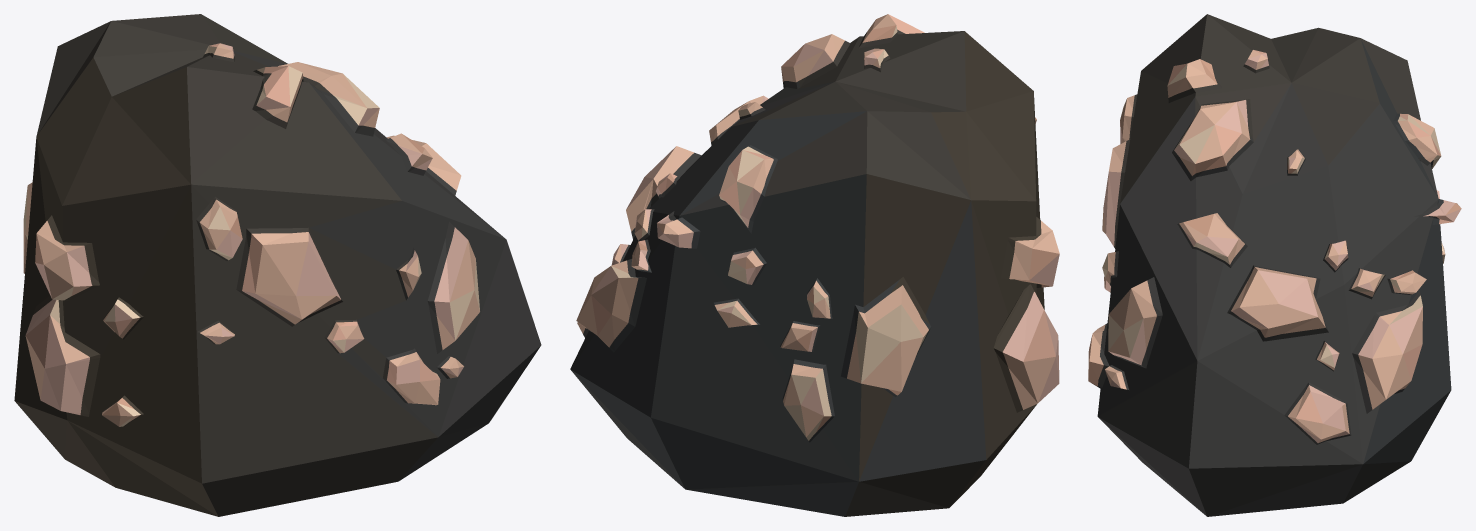
Rendered from Iron Ore Rock.glb.
The picture shows the model from 3 angles, left to right: view 1: azimuth 30°, elevation 25°; view 2: azimuth 150°, elevation 25°; view 3: azimuth 270°, elevation 25°; orthographic projection. The views are drawn at different scales.
Visible parts, largest first — view 1: Iron Ore Rock.Static; view 2: Iron Ore Rock.Static; view 3: Iron Ore Rock.Static.
Boxes of the visible parts, x1,y1,x2,y2 form: Iron Ore Rock.Static: (14,14,541,516); Iron Ore Rock.Static: (570,14,1059,516); Iron Ore Rock.Static: (1088,14,1461,516).
Size of the model in its own units: 1.44 by 1.27 by 1.15.
